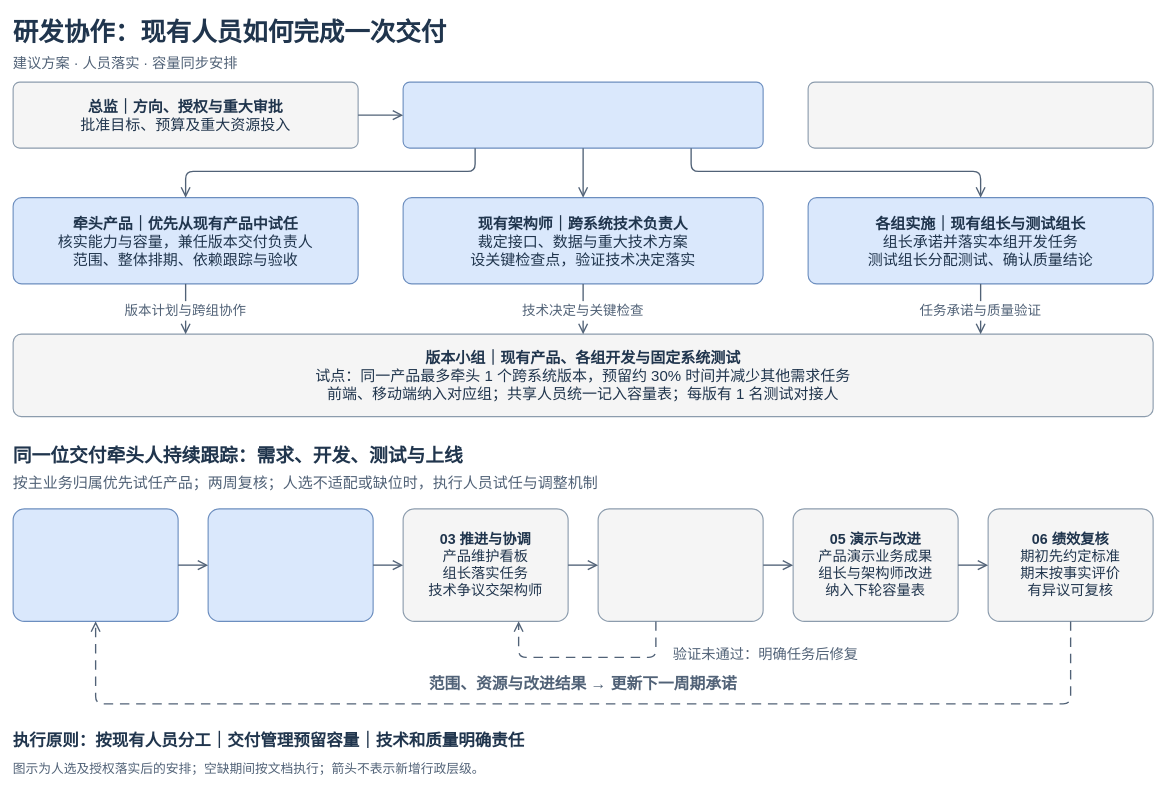
Some shapes in this 1167 by 791 pixel diagram are drawn without their labels. The centre of each missing label's shape, as x and y in pixels:
"01 需求就绪 牵头产品准备 目标、范围、验收 逐项澄清与放行" goes at pixel 95 565.
"02 共同排期 开发与测试估算 组长确认容量 产品汇总并报批" goes at pixel 290 565.
"04 验证与上线 测试给验证结论 产品组织业务验收 组长发布并验证" goes at pixel 680 565.
"空缺状态｜人员与授权待落实 暂缓新的跨系统交付承诺" goes at pixel 980 114.
"部门交付统筹人｜人选待定 到位并获授权后：统筹资源、排期和试任" goes at pixel 582 114.
